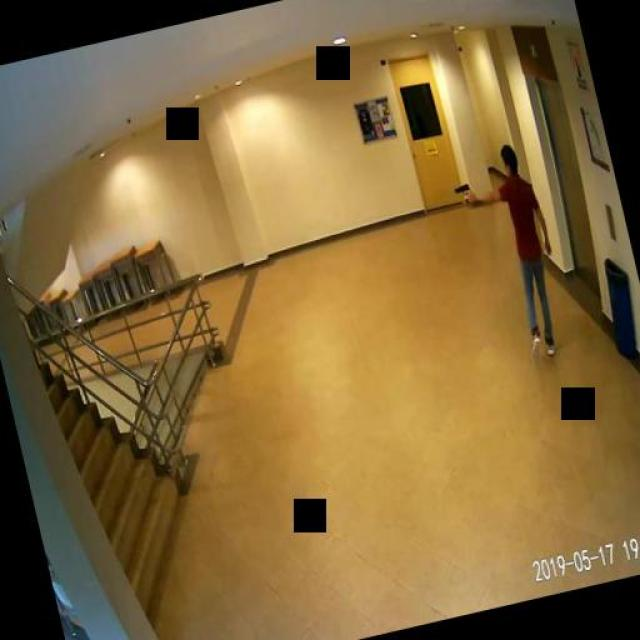gun: (452, 181, 472, 205)
